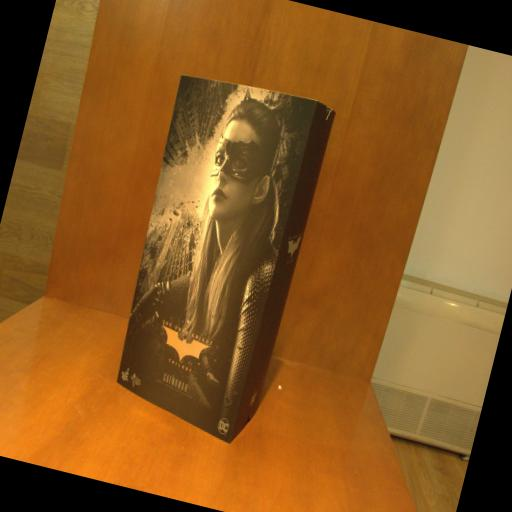catwoman: (95, 68, 336, 452)
